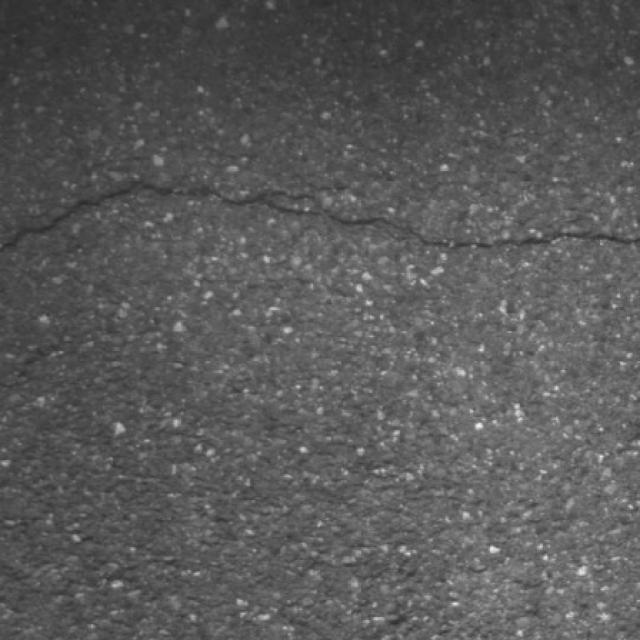Horizontal Crack: (0, 174, 640, 258)
